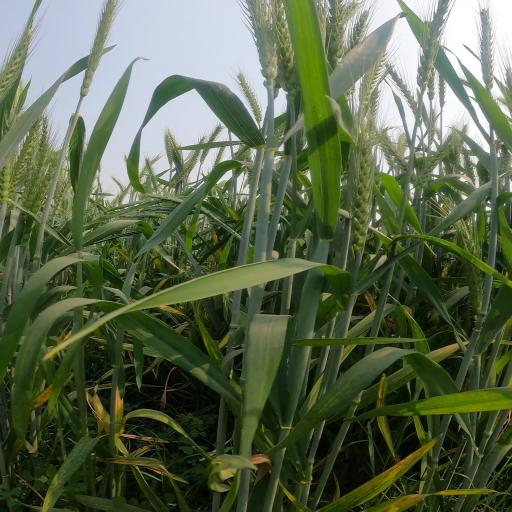diease: (358, 432, 468, 486), (362, 490, 512, 510), (102, 456, 185, 482), (411, 331, 467, 369), (371, 378, 409, 428), (18, 378, 64, 412), (86, 385, 112, 433), (101, 431, 181, 446), (244, 446, 286, 472), (154, 378, 173, 412), (14, 439, 43, 453)
pest: (132, 319, 185, 342), (62, 258, 104, 276), (308, 98, 334, 124), (288, 285, 325, 301), (410, 231, 440, 247), (160, 72, 194, 86), (321, 147, 332, 162)
wheat: (60, 0, 136, 112), (408, 0, 485, 104), (339, 66, 402, 174), (0, 4, 55, 121), (0, 124, 66, 217), (456, 2, 512, 110), (233, 0, 292, 84), (322, 0, 396, 64), (409, 130, 469, 183), (339, 178, 380, 254), (228, 72, 270, 122), (146, 138, 188, 182), (424, 72, 449, 112), (102, 174, 135, 204), (109, 208, 180, 220), (142, 192, 191, 208), (450, 220, 480, 246), (78, 191, 99, 223), (270, 124, 296, 140)
